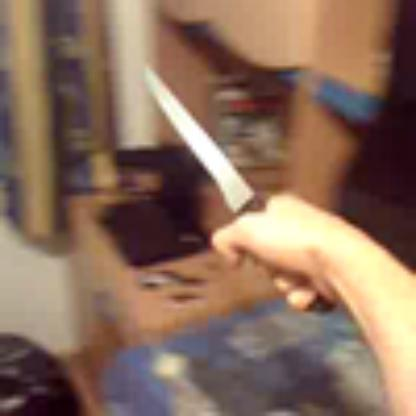knives: (136, 54, 324, 320)
